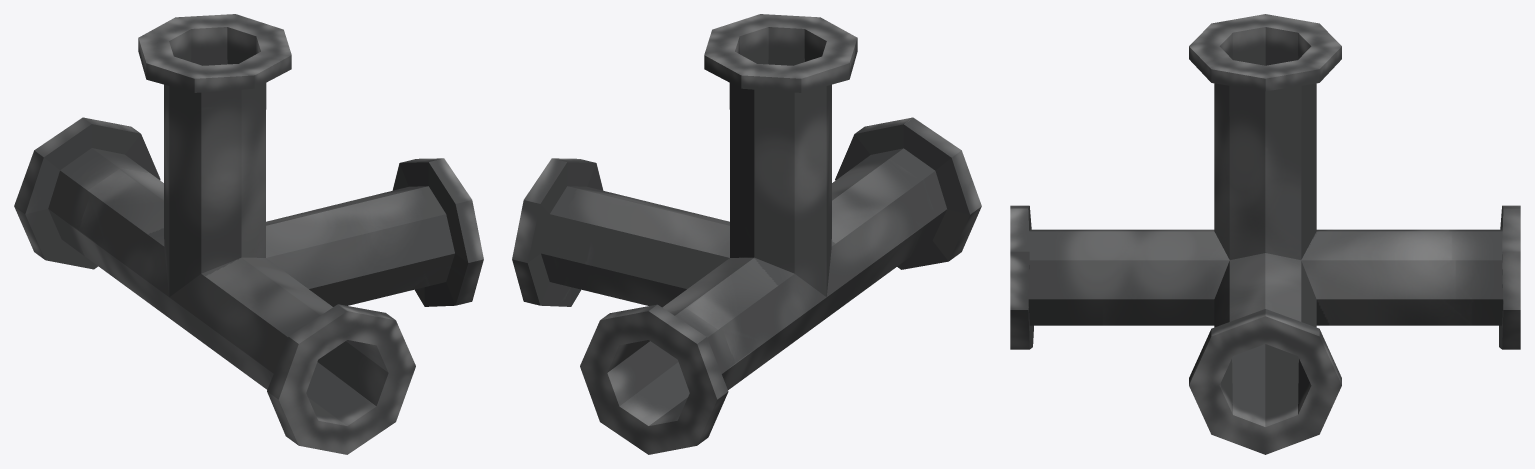
3 views of the same model, side by side, from view 1: azimuth 30°, elevation 25°; view 2: azimuth 150°, elevation 25°; view 3: azimuth 270°, elevation 25° (orthographic). The views are drawn at different scales.
Visible parts, largest first — view 1: Pipe4-1; view 2: Pipe4-1; view 3: Pipe4-1.
Boxes of the visible parts, x1=… form: Pipe4-1: x1=14, y1=14, x2=483, y2=454; Pipe4-1: x1=512, y1=14, x2=981, y2=454; Pipe4-1: x1=1010, y1=14, x2=1520, y2=454.
Bounding box in the file's own units: 6.5 × 6.5 × 10.
Materials: 1 (1 with a texture image).
